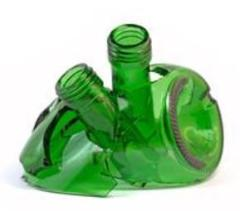glass: (20, 24, 225, 200)
